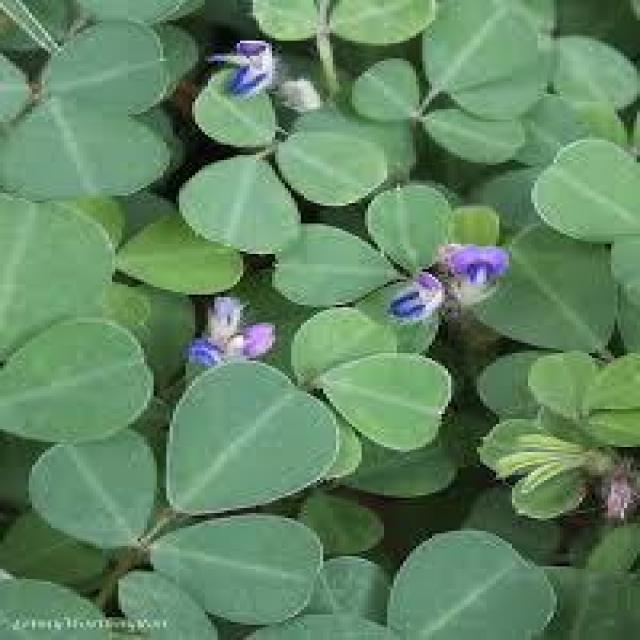organic waste: (163, 287, 301, 371), (365, 256, 451, 332), (214, 33, 282, 104), (449, 235, 514, 303)
